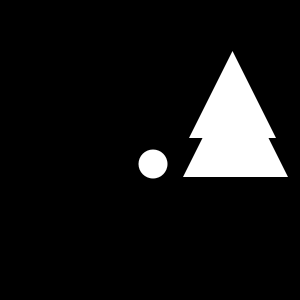rectangle: (138, 150, 168, 178)
triangle: (183, 72, 288, 177), (189, 51, 276, 138)
